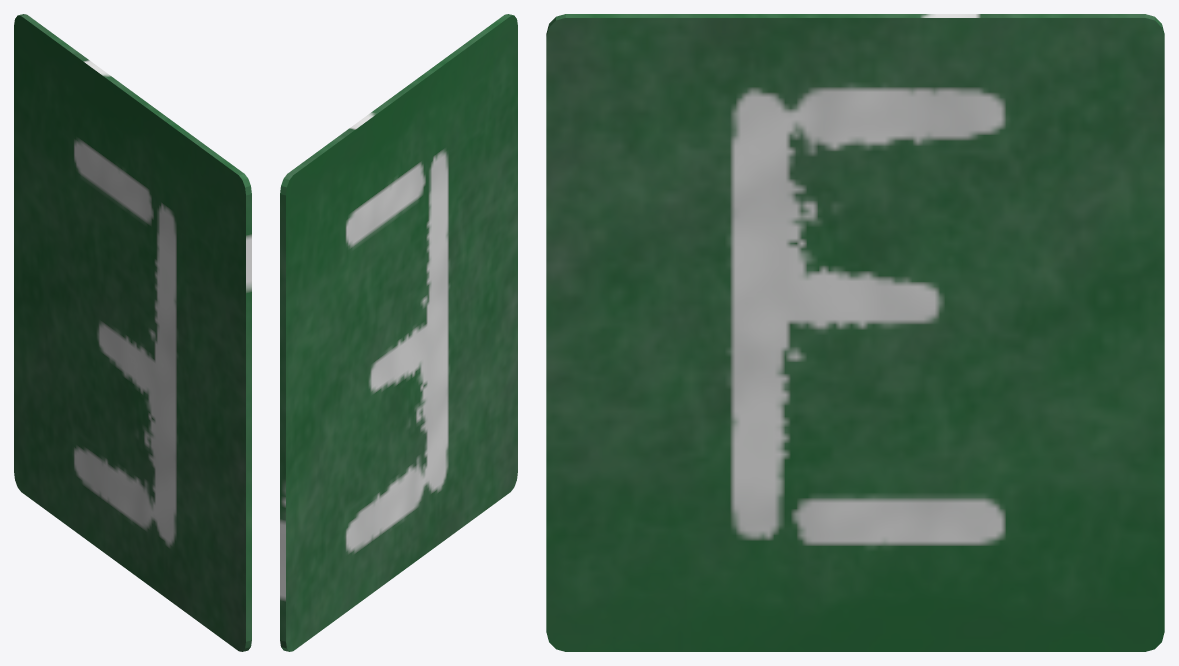
File: DecalE.fbx
3 renders of one model, left to right at view 1: azimuth 30°, elevation 25°; view 2: azimuth 150°, elevation 25°; view 3: azimuth 270°, elevation 25°, orthographic. The views are drawn at different scales.
Visible parts, largest first — view 1: DecalE; view 2: DecalE; view 3: DecalE.
Boxes of the visible parts, x1,y1,x2,y2 form: DecalE: (14, 14, 251, 651); DecalE: (280, 14, 517, 651); DecalE: (546, 14, 1164, 651).
Bounding box in the file's own units: 5.01e-05 × 0.00385 × 0.0034.
